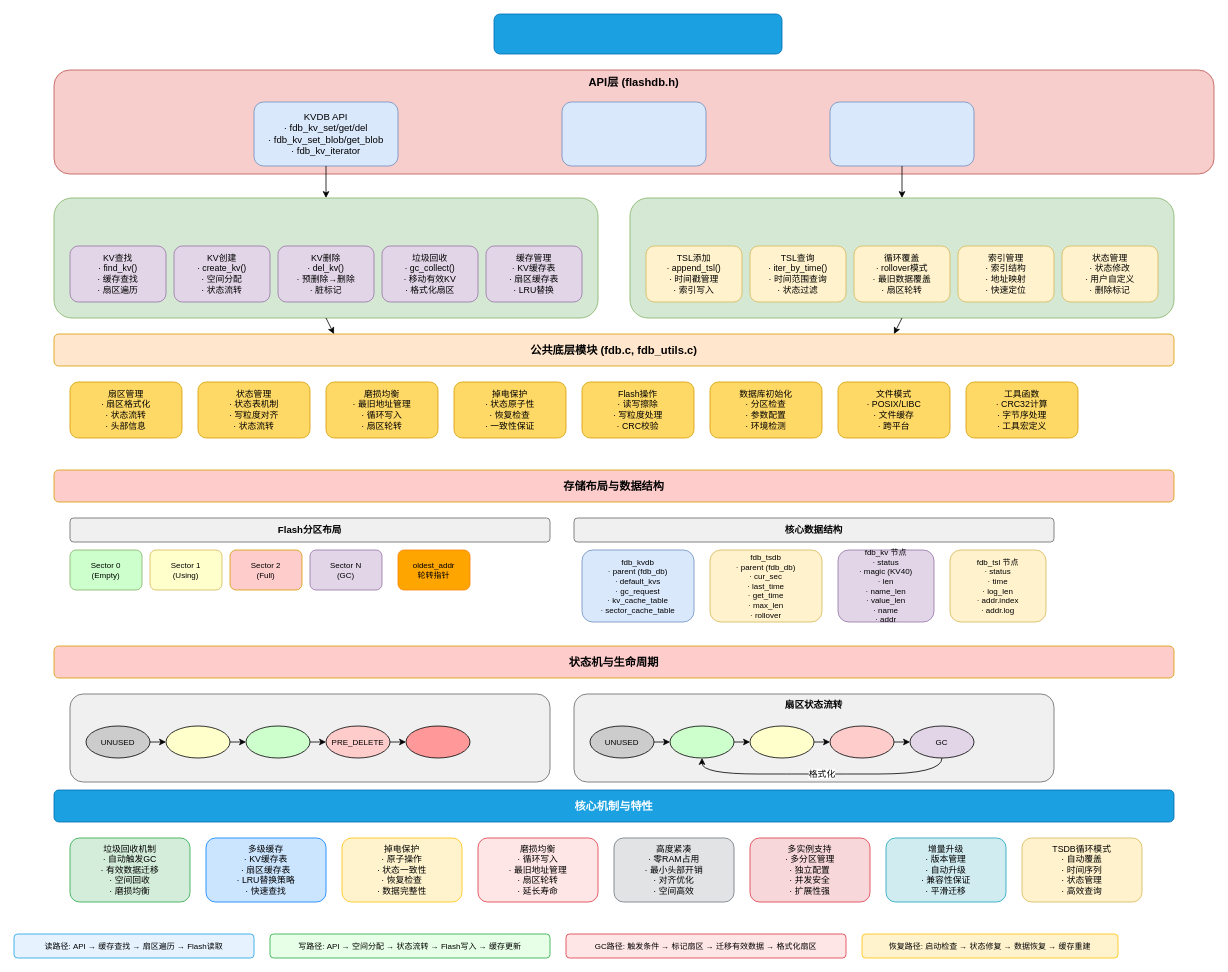
Image size: 1228x972. Some labels were removed from this diagram. The shapes that lost their labels are listed below. From the top down, each one's box as (x1, y1, x2, y2) in pixels, then its label:
(493, 13, 782, 54): FlashDB 核心架构与设计原理
(561, 101, 706, 166): 数据库管理 · fdb_kvdb_init/deinit · fdb_tsdb_init/deinit · fdb_control
(829, 101, 974, 166): TSDB API · fdb_tsl_append · fdb_tsl_iter · fdb_tsl_query_count
(53, 197, 598, 318): KVDB 核心模块 (fdb_kvdb.c)
(629, 197, 1174, 318): TSDB 核心模块 (fdb_tsdb.c)
(165, 725, 230, 758): PRE_WRITE
(245, 725, 310, 758): WRITE
(69, 693, 550, 782): KV状态流转
(405, 725, 470, 758): DELETED
(669, 725, 734, 758): EMPTY
(749, 725, 814, 758): USING
(829, 725, 894, 758): FULL
